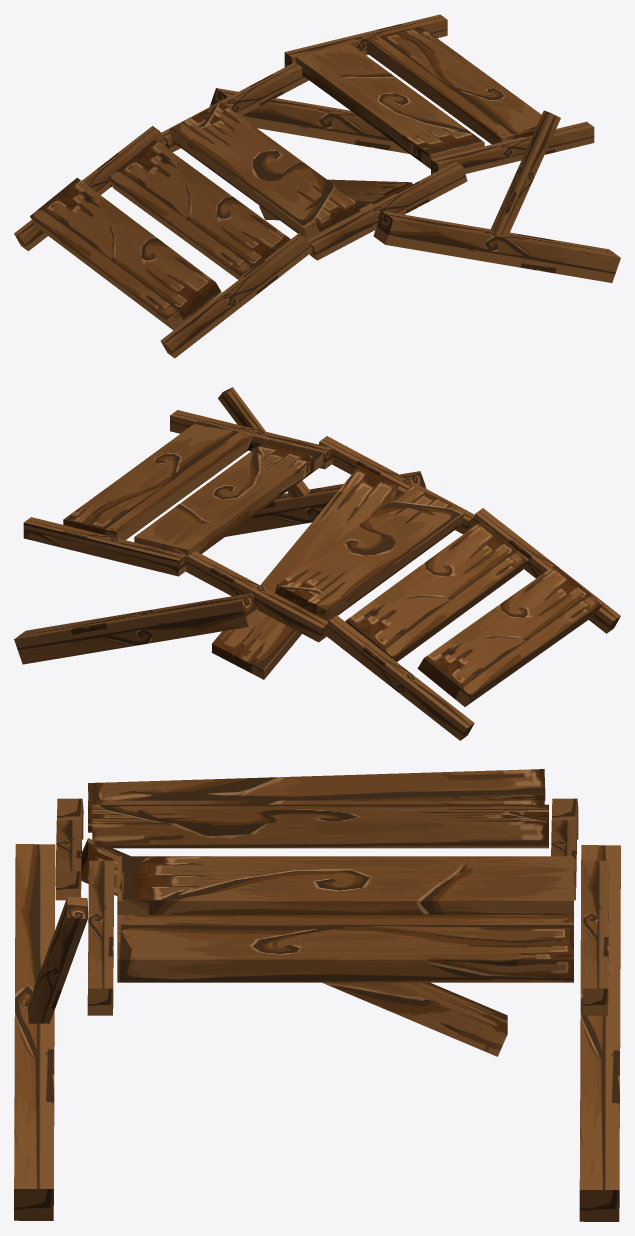
The model's file is Broken_bridge_(1).fbx.
3 views of the same model, one above another, from view 1: azimuth 30°, elevation 25°; view 2: azimuth 150°, elevation 25°; view 3: azimuth 270°, elevation 25° (orthographic). The views are drawn at different scales.
Parts seen in each view (by area): view 1: Ramp; view 2: Ramp; view 3: Ramp.
Boxes of the visible parts, box(x1,y1,x2,y2) form: Ramp: box(14, 14, 620, 358); Ramp: box(14, 387, 620, 740); Ramp: box(14, 769, 620, 1221).
Bounding box in the file's own units: 87.34 × 32.11 × 61.55.
1 material, 1 textured.
